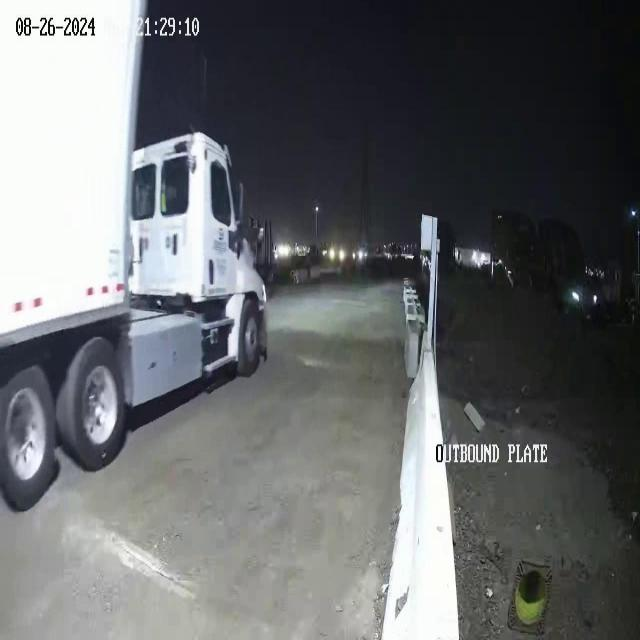TRUCK_IN: (0, 1, 270, 512)
